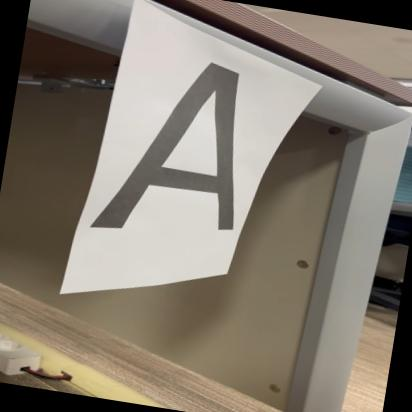seat: (96, 40, 272, 252)
